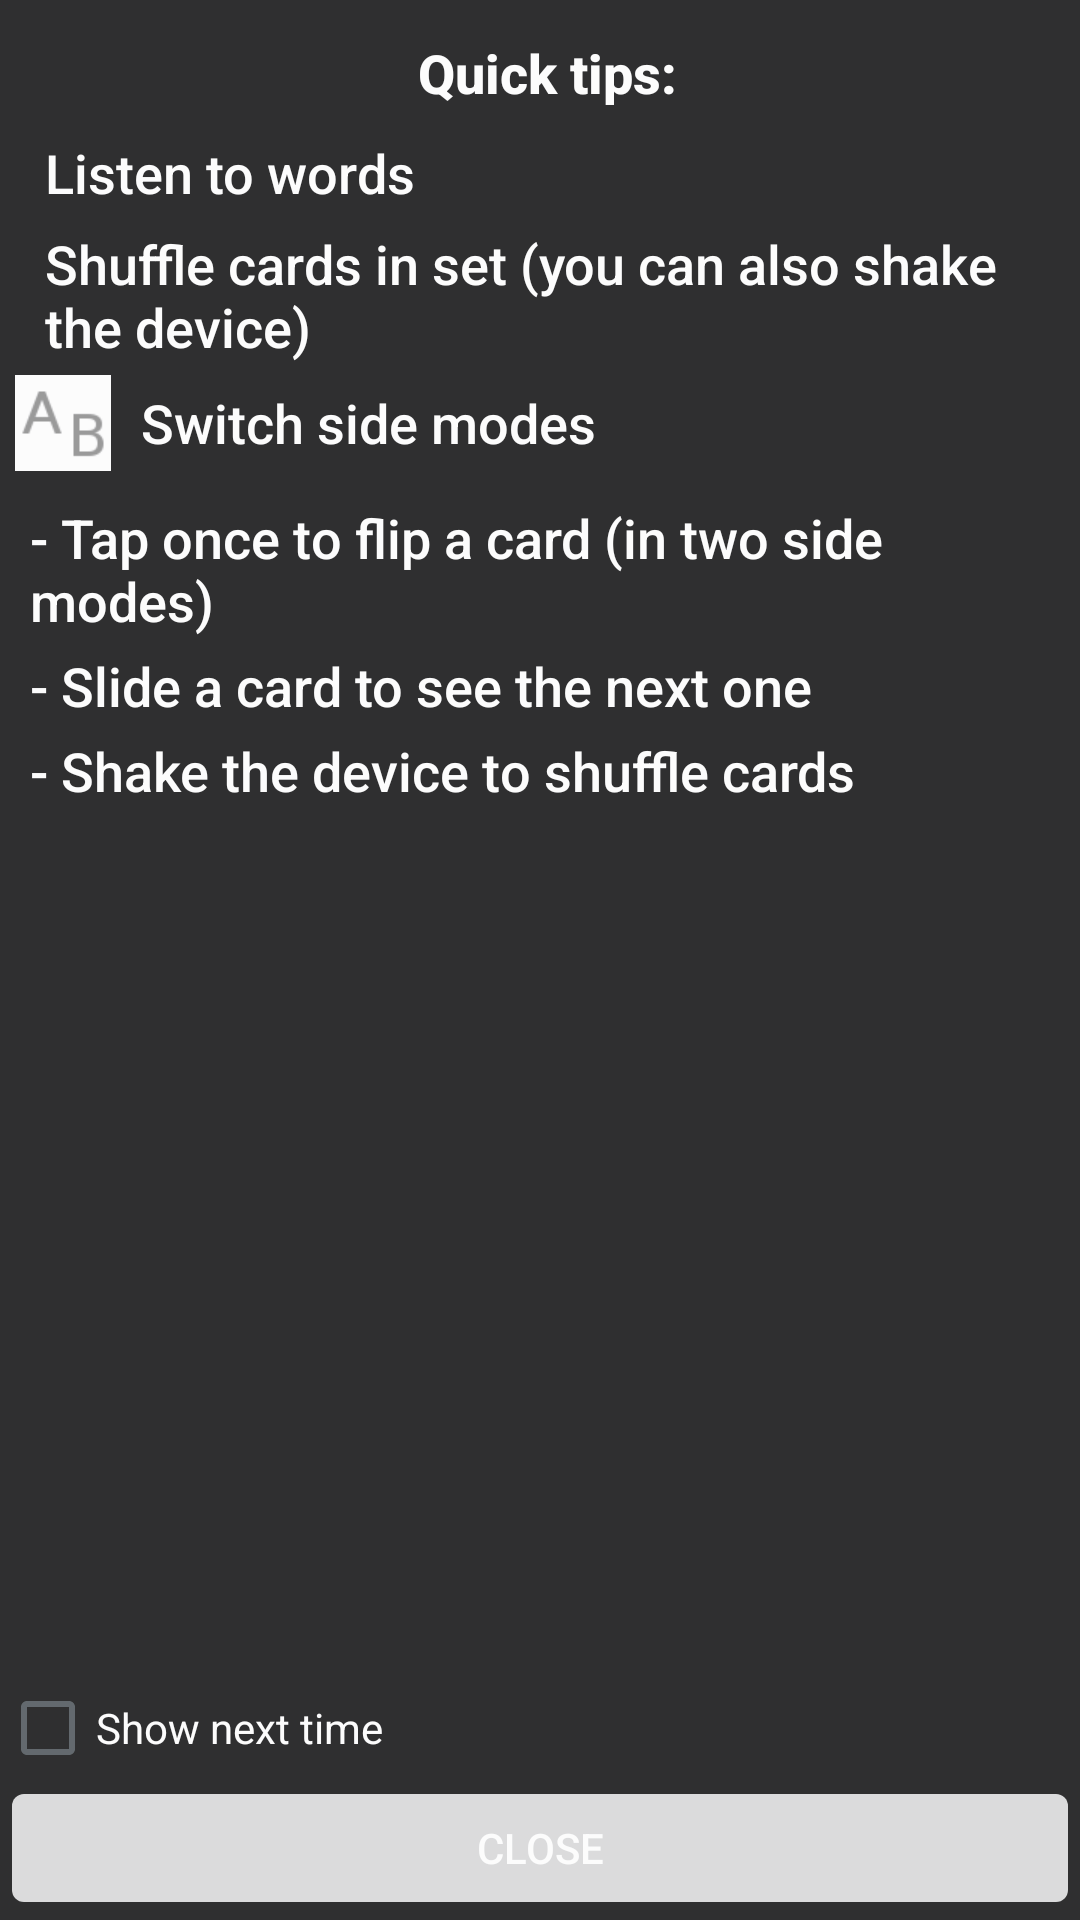

Screen size 1080px x 1920px. Icon name, then its box in pixels as (x1, y1, x2, y2):
mode ab: (15, 375, 111, 471)
